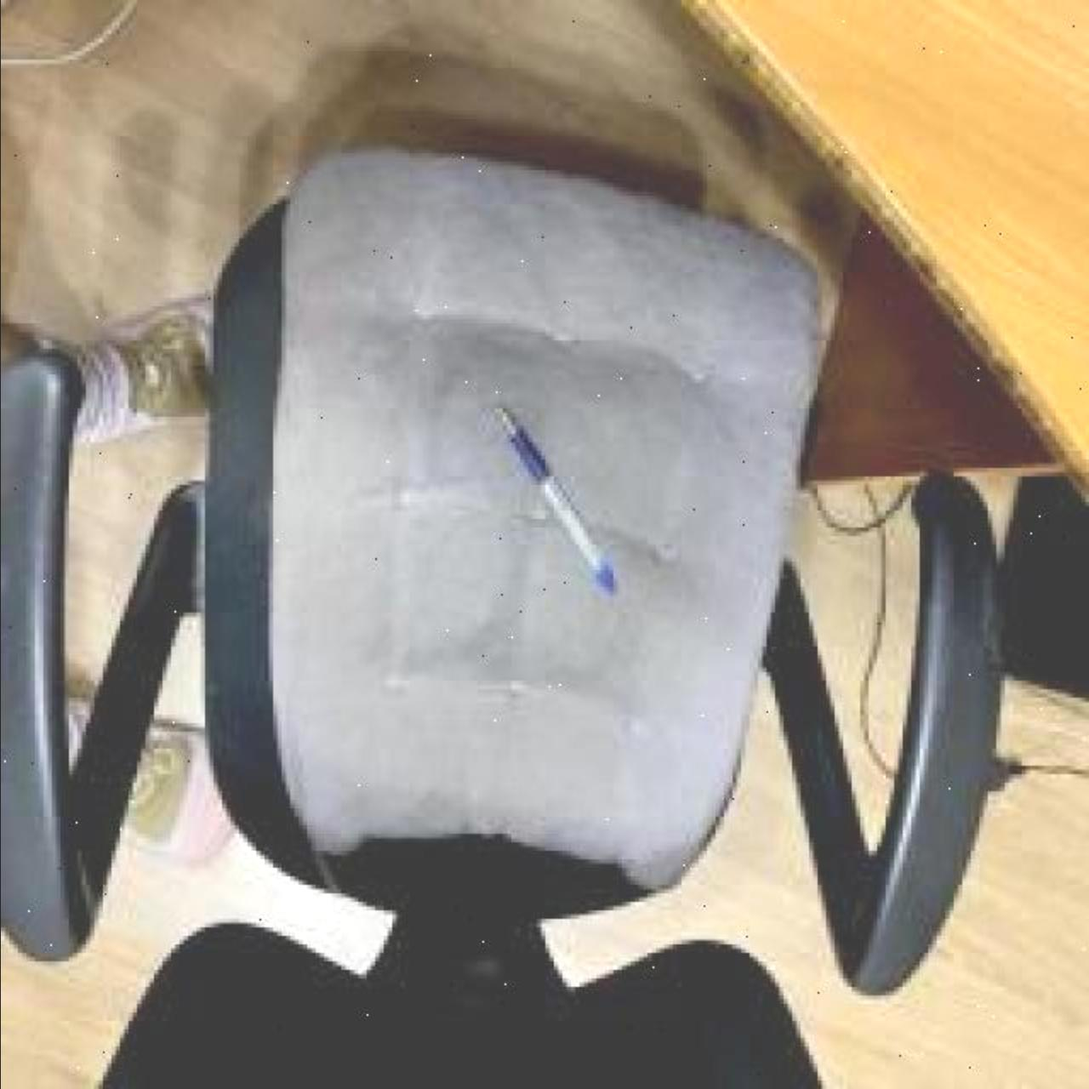pen: (497, 400, 616, 596)
